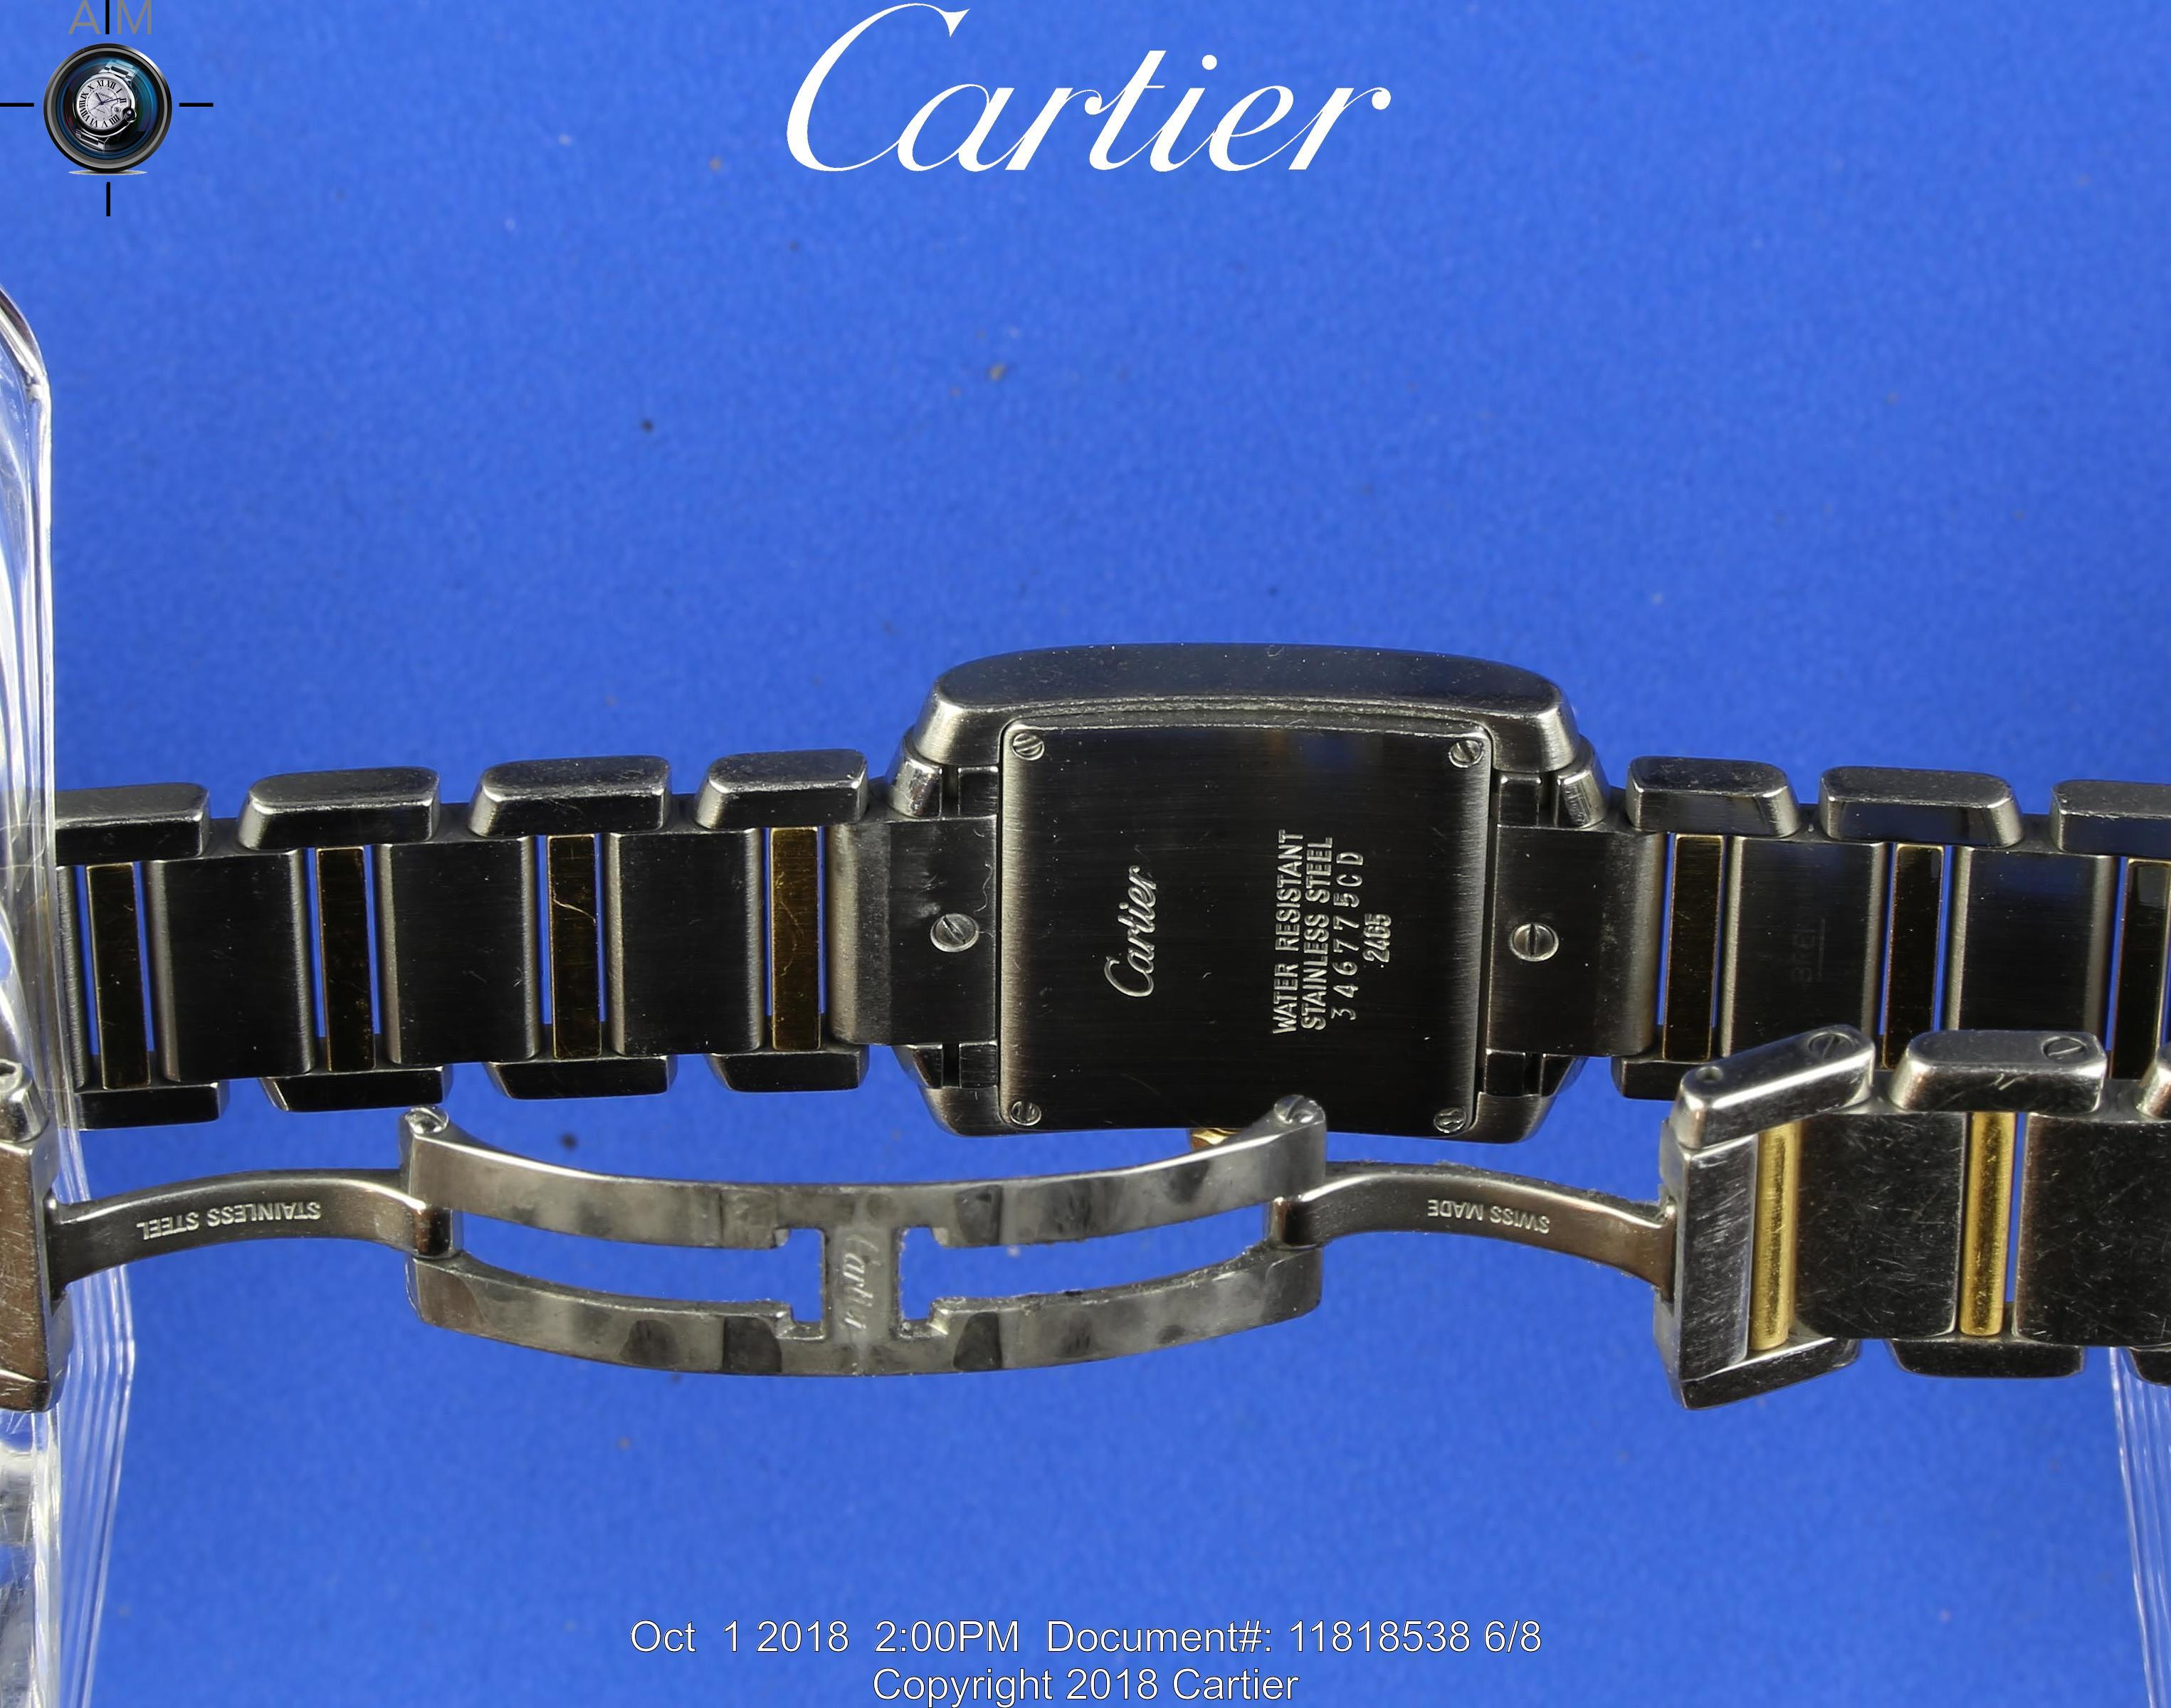watchback: (952, 672, 1595, 1156)
